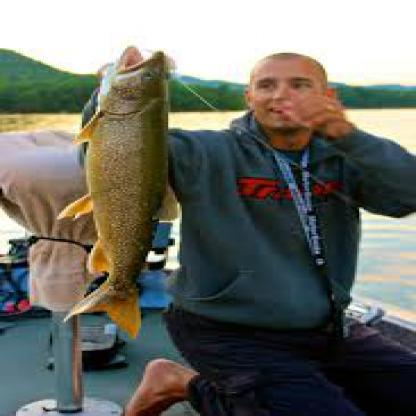fish: (50, 41, 172, 329)
